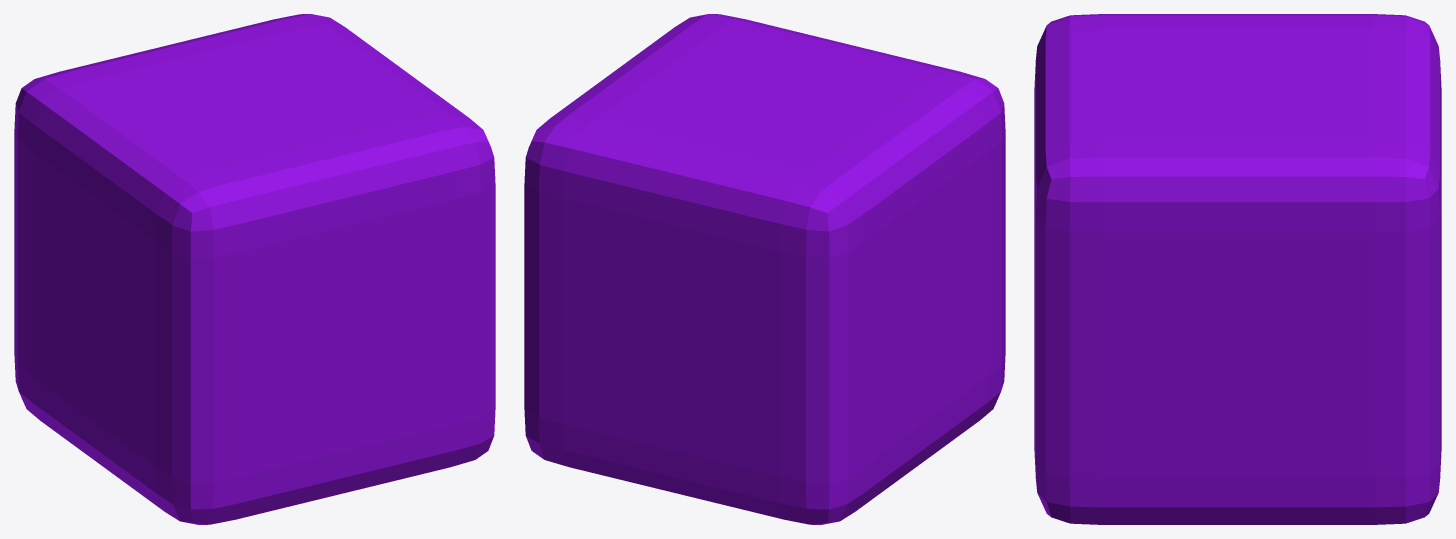
The model's file is cubo-leve.glb.
3 renders of one model, left to right at view 1: azimuth 30°, elevation 25°; view 2: azimuth 150°, elevation 25°; view 3: azimuth 270°, elevation 25°, orthographic. The views are drawn at different scales.
Visible parts, largest first — view 1: Cube.001; view 2: Cube.001; view 3: Cube.001.
Part boxes in pixels (<box>): Cube.001: <box>14,14,495,524</box>; Cube.001: <box>524,14,1005,524</box>; Cube.001: <box>1034,14,1441,524</box>.
Bounding box in the file's own units: 4 × 4 × 4.
